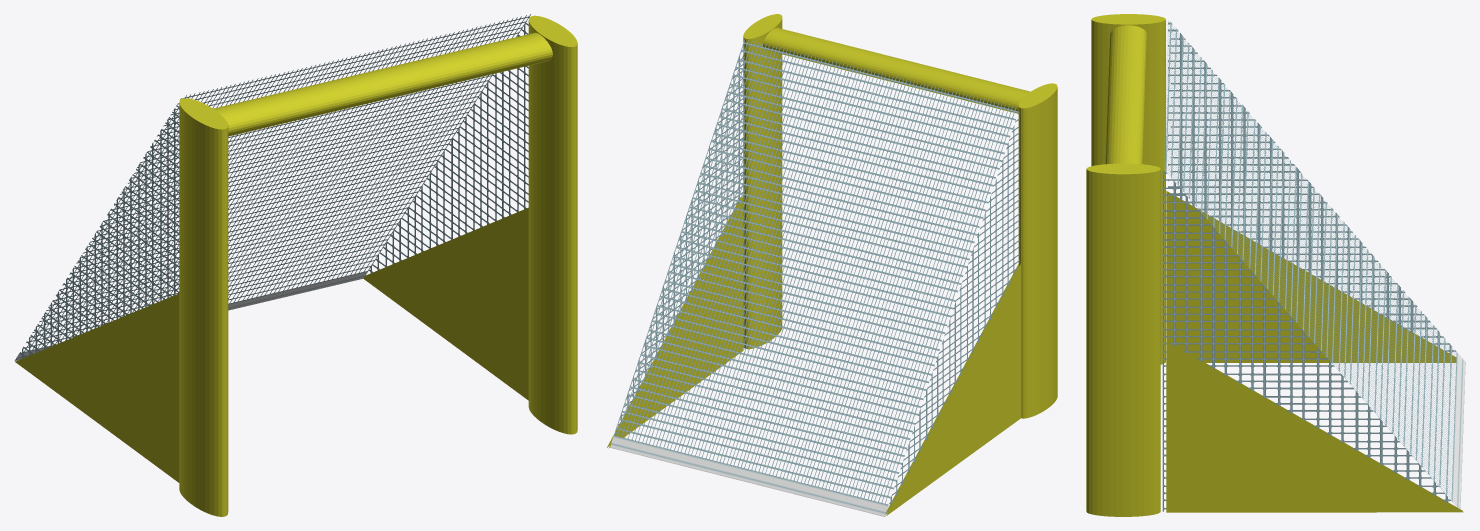
File: leftgoal.obj
The picture shows the model from 3 angles, left to right: view 1: azimuth 30°, elevation 25°; view 2: azimuth 150°, elevation 25°; view 3: azimuth 270°, elevation 25°; orthographic projection. The views are drawn at different scales.
Visible parts, largest first — view 1: Cylinder; view 2: Cylinder; view 3: Cylinder.
Boxes of the visible parts, bbox=[...] form: Cylinder: bbox=[14, 14, 577, 516]; Cylinder: bbox=[607, 14, 1057, 516]; Cylinder: bbox=[1086, 14, 1465, 516].
Size of the model in its own units: 1 by 1 by 1.
